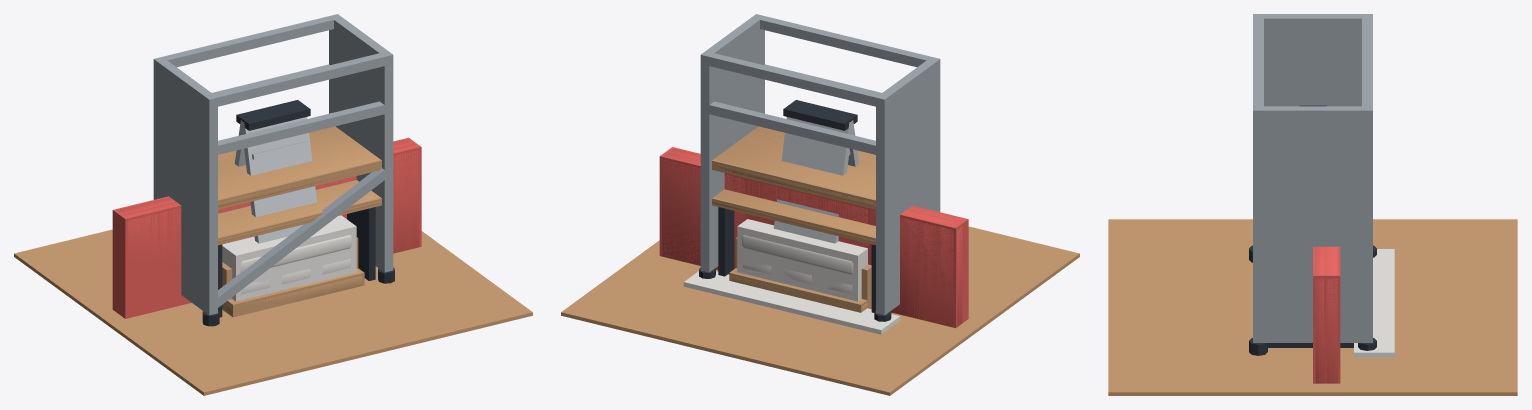
The model's file is BLD_INTERIOR_A_v002.glb.
3 renders of one model, left to right at view 1: azimuth 30°, elevation 25°; view 2: azimuth 150°, elevation 25°; view 3: azimuth 270°, elevation 25°, orthographic. The views are drawn at different scales.
Parts seen in each view (by area): view 1: BLD_INTERIOR_A_FLOOR_WOOD, BLD_INTERIOR_A_SCAFFOLD_TOWER, BLD_INTERIOR_A_SCAFFOLD_TOWER_LOW, BLD_INTERIOR_A_PARTITION_BRICK_DOOR_LOW, BLD_INTERIOR_A_PALLET_LOW, BLD_INTERIOR_A_PARTITION_BRICK, BLD_INTERIOR_A_TABLE, BLD_INTERIOR_A_TABLE_LOW, BLD_INTERIOR_A_PALLET, BLD_INTERIOR_A_PARTITION_BRICK_LOW, BLD_INTERIOR_A_PARTITION_BRICK_DOOR, BLD_INTERIOR_A_STEPLADDER (+2 smaller); view 2: BLD_INTERIOR_A_FLOOR_WOOD, BLD_INTERIOR_A_SCAFFOLD_TOWER, BLD_INTERIOR_A_SCAFFOLD_TOWER_LOW, BLD_INTERIOR_A_WALL_BRICK_CUT, BLD_INTERIOR_A_WALL_BRICK_CUT_DOOR, BLD_INTERIOR_A_PALLET_LOW, BLD_INTERIOR_A_WALL_BRICK_CUT_DOOR_LOW, BLD_INTERIOR_A_WALL_BRICK_CUT_LOW, BLD_INTERIOR_A_TARP, BLD_INTERIOR_A_TABLE, BLD_INTERIOR_A_PALLET, BLD_INTERIOR_A_TABLE_LOW (+4 smaller); view 3: BLD_INTERIOR_A_FLOOR_WOOD, BLD_INTERIOR_A_SCAFFOLD_TOWER_LOW, BLD_INTERIOR_A_SCAFFOLD_TOWER, BLD_INTERIOR_A_TARP, BLD_INTERIOR_A_WALL_BRICK_CUT, BLD_INTERIOR_A_WALL_BRICK_CUT_LOW, BLD_INTERIOR_A_PARTITION_BRICK, BLD_INTERIOR_A_PARTITION_BRICK_LOW.
Boxes of the visible parts, <box> form: BLD_INTERIOR_A_FLOOR_WOOD: <box>14,229,532,395</box>; BLD_INTERIOR_A_SCAFFOLD_TOWER: <box>153,14,394,326</box>; BLD_INTERIOR_A_SCAFFOLD_TOWER_LOW: <box>156,17,387,311</box>; BLD_INTERIOR_A_PARTITION_BRICK_DOOR_LOW: <box>119,142,421,318</box>; BLD_INTERIOR_A_PALLET_LOW: <box>222,215,364,317</box>; BLD_INTERIOR_A_PARTITION_BRICK: <box>121,144,419,271</box>; BLD_INTERIOR_A_TABLE: <box>218,180,381,317</box>; BLD_INTERIOR_A_TABLE_LOW: <box>218,180,381,280</box>; BLD_INTERIOR_A_PALLET: <box>226,235,362,315</box>; BLD_INTERIOR_A_PARTITION_BRICK_LOW: <box>120,147,421,318</box>; BLD_INTERIOR_A_PARTITION_BRICK_DOOR: <box>127,144,417,286</box>; BLD_INTERIOR_A_STEPLADDER: <box>234,100,316,243</box>; BLD_INTERIOR_A_FLOOR_WOOD: <box>561,226,1079,395</box>; BLD_INTERIOR_A_SCAFFOLD_TOWER: <box>699,14,940,321</box>; BLD_INTERIOR_A_SCAFFOLD_TOWER_LOW: <box>705,17,937,311</box>; BLD_INTERIOR_A_WALL_BRICK_CUT: <box>662,153,962,327</box>; BLD_INTERIOR_A_WALL_BRICK_CUT_DOOR: <box>662,149,953,321</box>; BLD_INTERIOR_A_PALLET_LOW: <box>729,219,867,312</box>; BLD_INTERIOR_A_WALL_BRICK_CUT_DOOR_LOW: <box>659,147,968,328</box>; BLD_INTERIOR_A_WALL_BRICK_CUT_LOW: <box>659,156,965,327</box>; BLD_INTERIOR_A_TARP: <box>683,271,900,334</box>; BLD_INTERIOR_A_TABLE: <box>712,189,875,312</box>; BLD_INTERIOR_A_PALLET: <box>731,235,867,311</box>; BLD_INTERIOR_A_TABLE_LOW: <box>712,194,875,275</box>; BLD_INTERIOR_A_FLOOR_WOOD: <box>1108,219,1517,395</box>; BLD_INTERIOR_A_SCAFFOLD_TOWER_LOW: <box>1258,14,1367,342</box>; BLD_INTERIOR_A_SCAFFOLD_TOWER: <box>1249,14,1376,355</box>; BLD_INTERIOR_A_TARP: <box>1354,249,1394,357</box>; BLD_INTERIOR_A_WALL_BRICK_CUT: <box>1315,246,1337,383</box>; BLD_INTERIOR_A_WALL_BRICK_CUT_LOW: <box>1313,246,1340,383</box>; BLD_INTERIOR_A_PARTITION_BRICK: <box>1315,246,1323,383</box>; BLD_INTERIOR_A_PARTITION_BRICK_LOW: <box>1313,246,1326,383</box>.
Bounding box in the file's own units: 3 × 2.01 × 3.
